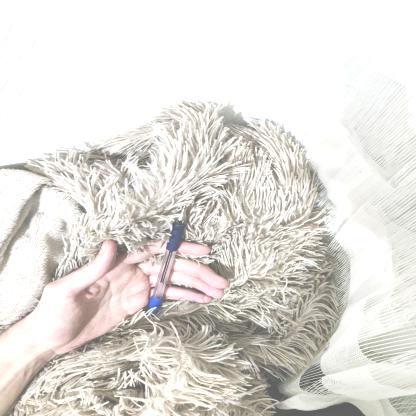Pen: (149, 204, 190, 327)
